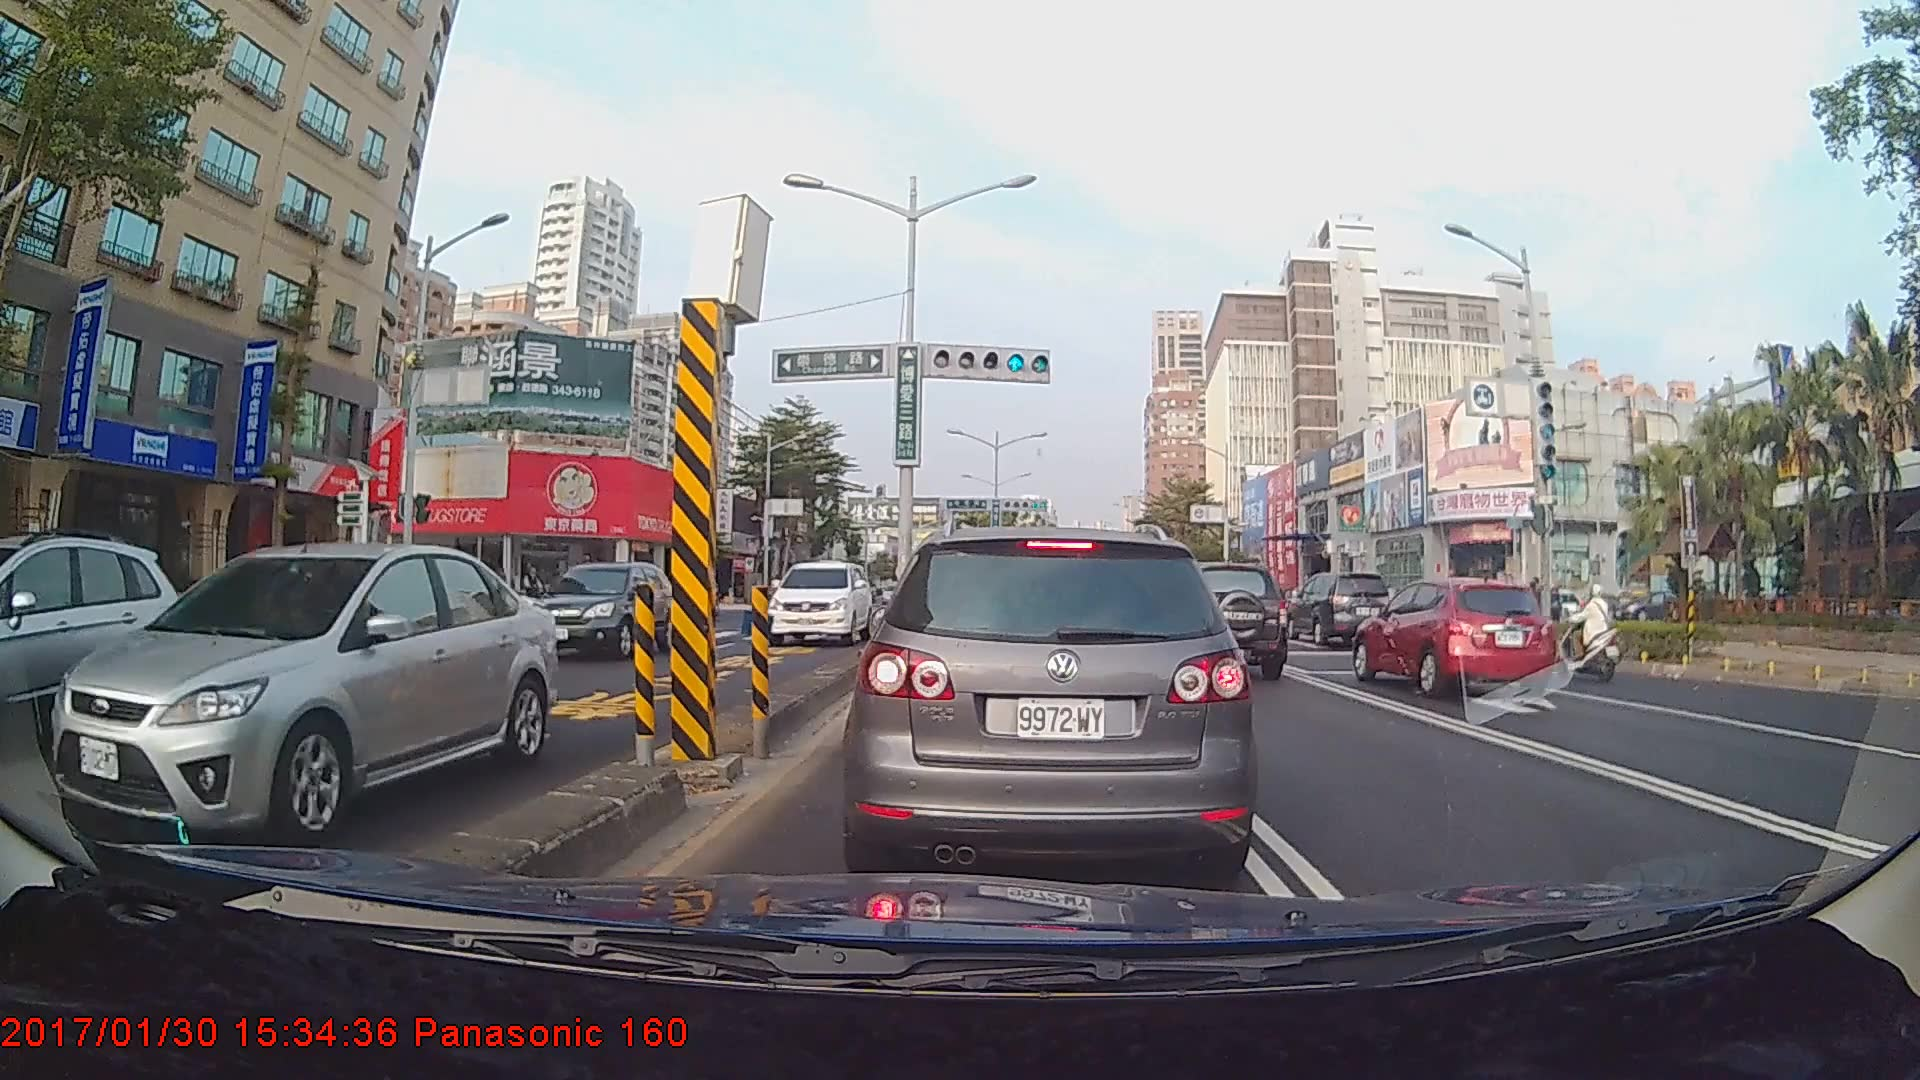rider: (1546, 586, 1617, 689)
vehicle: (47, 540, 559, 850), (855, 522, 1252, 874), (0, 530, 180, 769), (1353, 577, 1557, 699), (1154, 560, 1290, 682), (518, 560, 680, 661), (764, 558, 874, 644), (1281, 570, 1392, 646)
